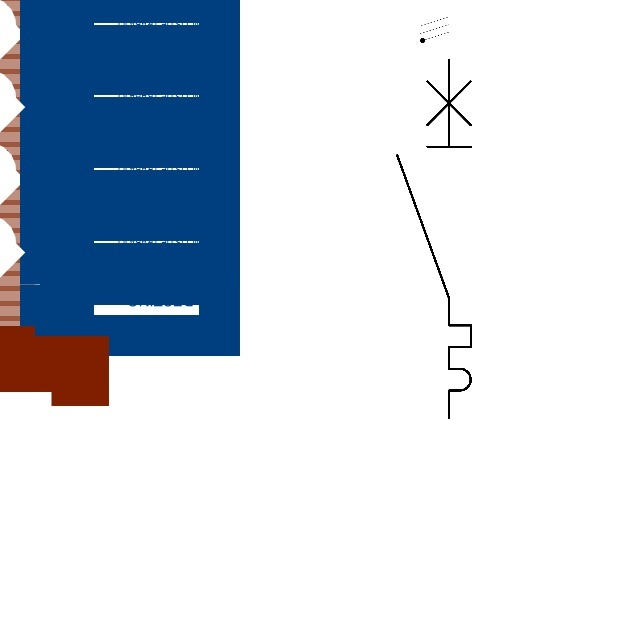interruptor_termomagnetico: (388, 50, 480, 426)
